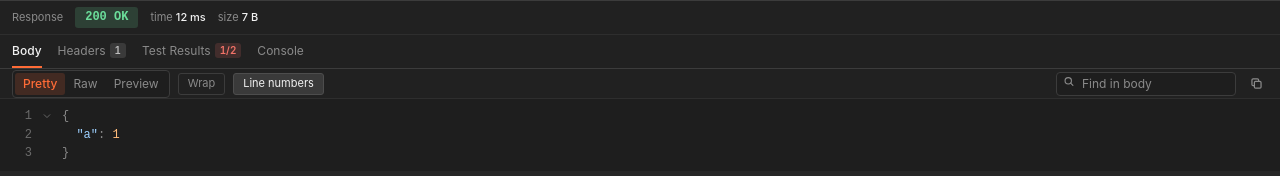
it: ResponsePane › summarises pm.test results without labelling their source
Click the tab "Test Results 1/2" at (192, 52), box [142, 35, 241, 68]
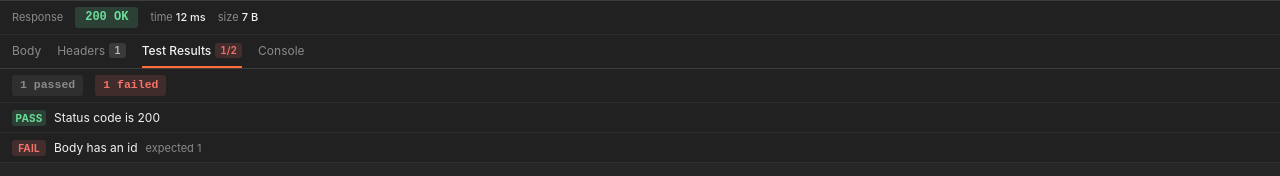
Check: the text "1 passed" is shown, box [12, 75, 83, 96]
Check: the text "1 failed" is shown, box [95, 75, 166, 96]
Check: the text "expected 1" is shown, box [146, 140, 201, 156]
